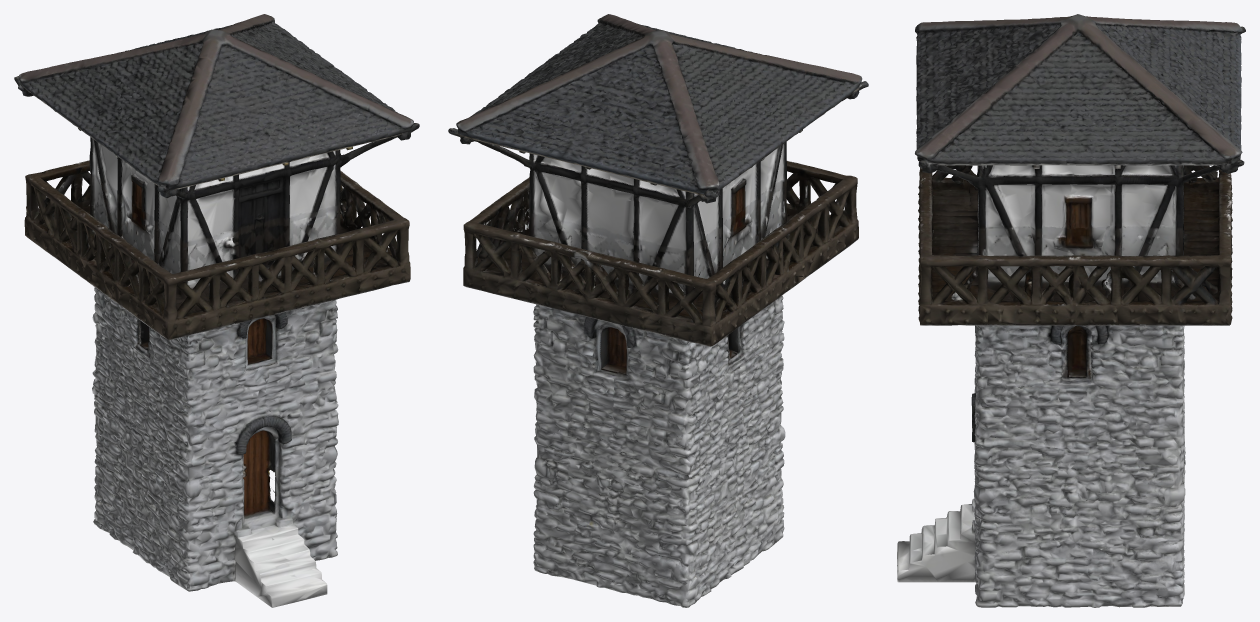
The model's file is gt_limes.glb.
3 views of the same model, side by side, from view 1: azimuth 30°, elevation 25°; view 2: azimuth 150°, elevation 25°; view 3: azimuth 270°, elevation 25° (orthographic). The views are drawn at different scales.
Parts seen in each view (by area): view 1: gt_limes; view 2: gt_limes; view 3: gt_limes.
Boxes of the visible parts, x1=… form: gt_limes: x1=14, y1=14, x2=419, y2=607; gt_limes: x1=448, y1=14, x2=868, y2=607; gt_limes: x1=897, y1=14, x2=1245, y2=607.
Bounding box in the file's own units: 1.03 × 1.9 × 1.09.
1 material, 1 textured.
